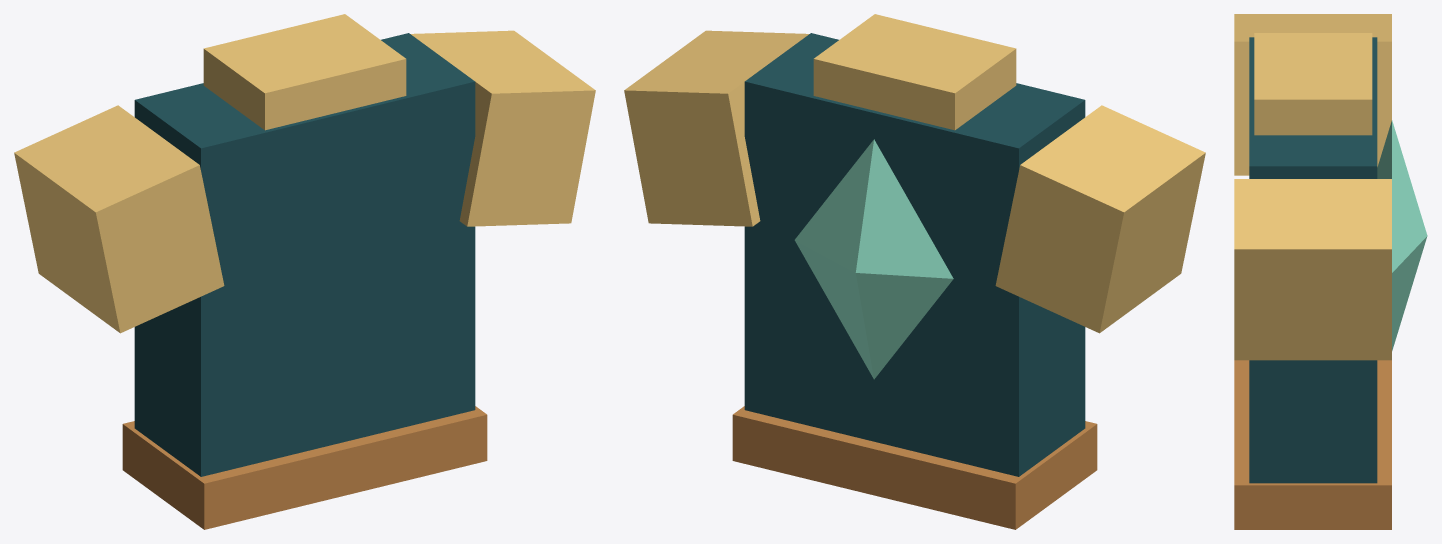
The model's file is Skyplate.obj.
3 renders of one model, left to right at view 1: azimuth 30°, elevation 25°; view 2: azimuth 150°, elevation 25°; view 3: azimuth 270°, elevation 25°, orthographic. The views are drawn at different scales.
Size of the model in its own units: 2.83 by 2.22 by 0.98.
